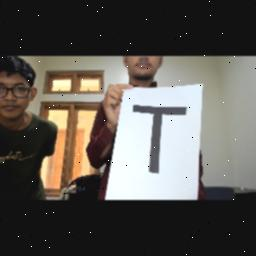t: (124, 100, 194, 182)
